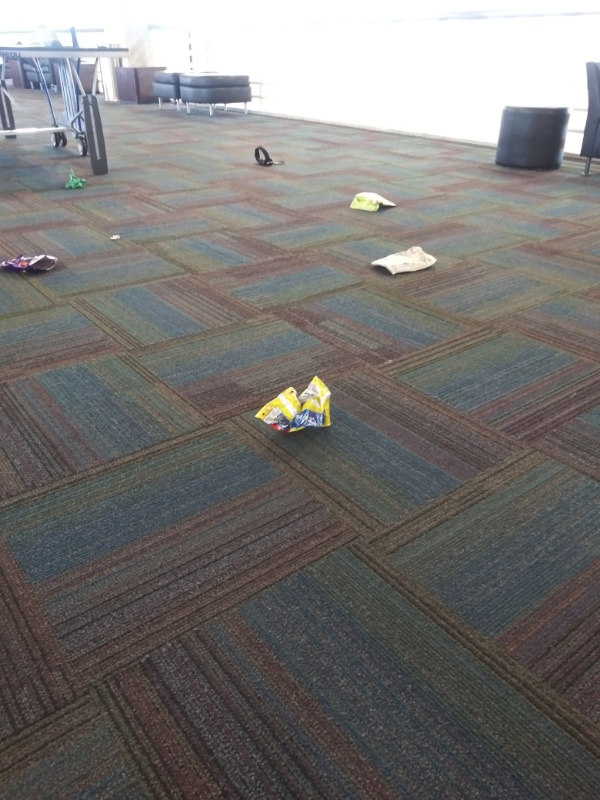bag: (253, 372, 343, 432), (365, 244, 443, 278), (1, 249, 65, 280), (346, 188, 400, 213)
